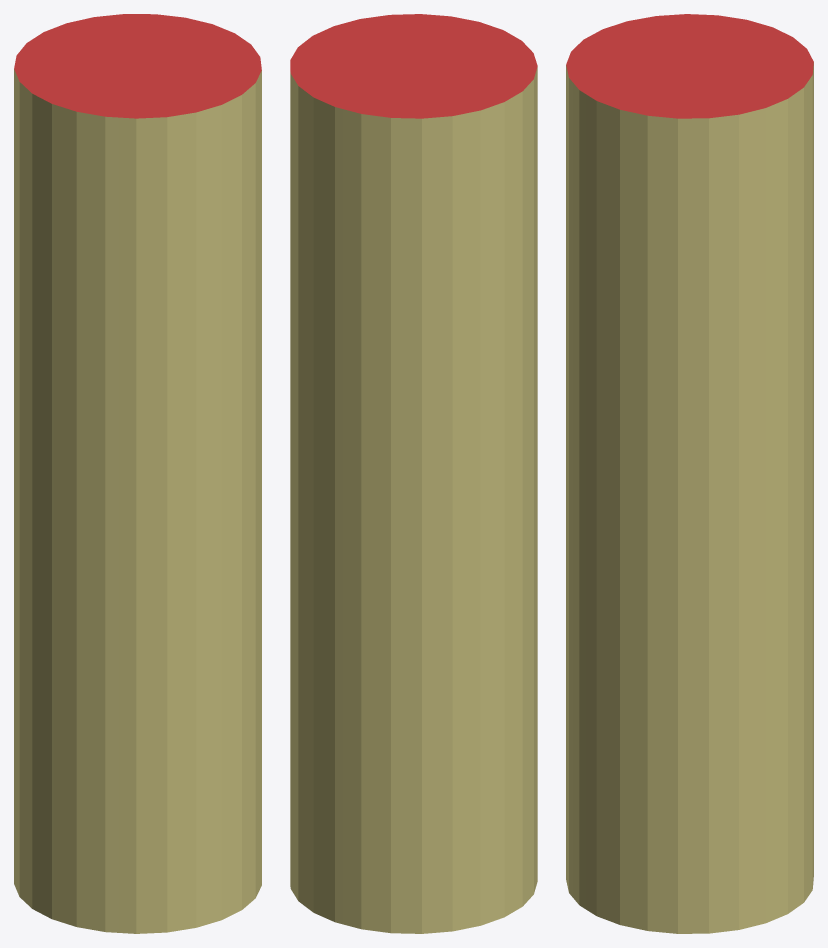
3 renders of one model, left to right at view 1: azimuth 30°, elevation 25°; view 2: azimuth 150°, elevation 25°; view 3: azimuth 270°, elevation 25°, orthographic.
Bounding box in the file's own units: 3.88 × 3.88 × 14.09.
